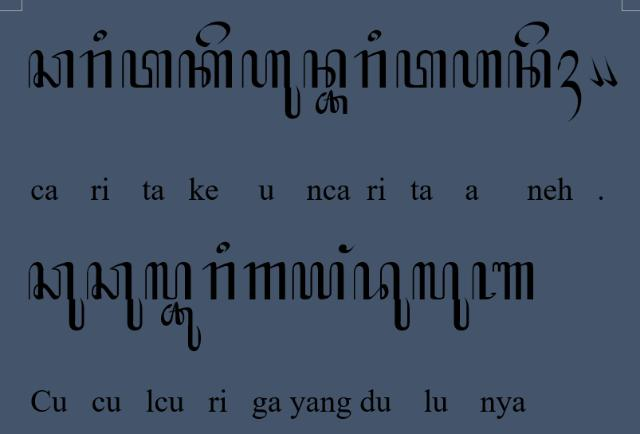_c: (313, 90, 349, 116)
_cu: (161, 299, 203, 352)
_h1: (557, 49, 583, 123)
c: (27, 49, 77, 90)
cu: (26, 260, 86, 332), (86, 260, 144, 332)
du: (352, 260, 412, 332)
e: (512, 20, 550, 50), (195, 21, 231, 49)
g: (243, 260, 287, 302)
h: (452, 50, 502, 88)
hu: (240, 50, 304, 120)
i: (92, 28, 108, 44), (366, 28, 382, 44), (215, 240, 231, 254)
k: (178, 48, 235, 90)
kom: (588, 55, 604, 88), (602, 54, 618, 86)
l: (143, 261, 193, 301)
lu: (411, 260, 471, 332)
n: (506, 49, 554, 90), (302, 49, 348, 90)
ng: (338, 242, 356, 254)
ny1: (470, 260, 538, 304)
r: (201, 260, 237, 302), (78, 50, 114, 90), (352, 49, 388, 89)
t: (120, 48, 176, 90), (394, 50, 448, 90)
y: (290, 260, 346, 302)
